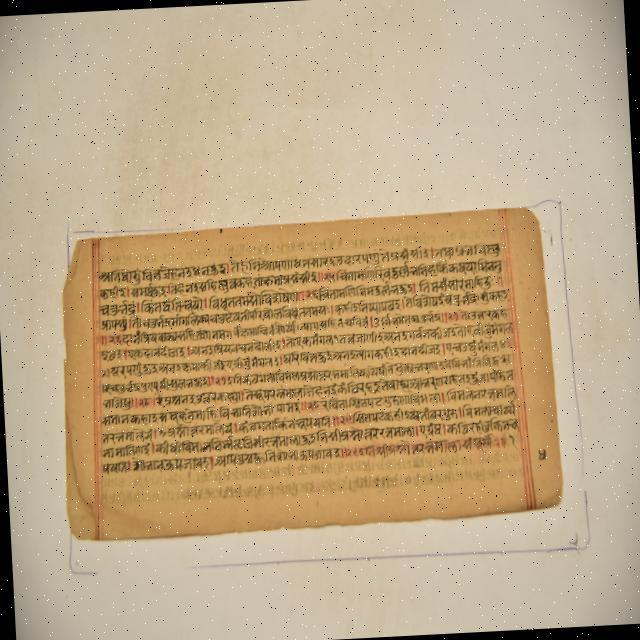text_paragraph: (67, 210, 561, 538)
